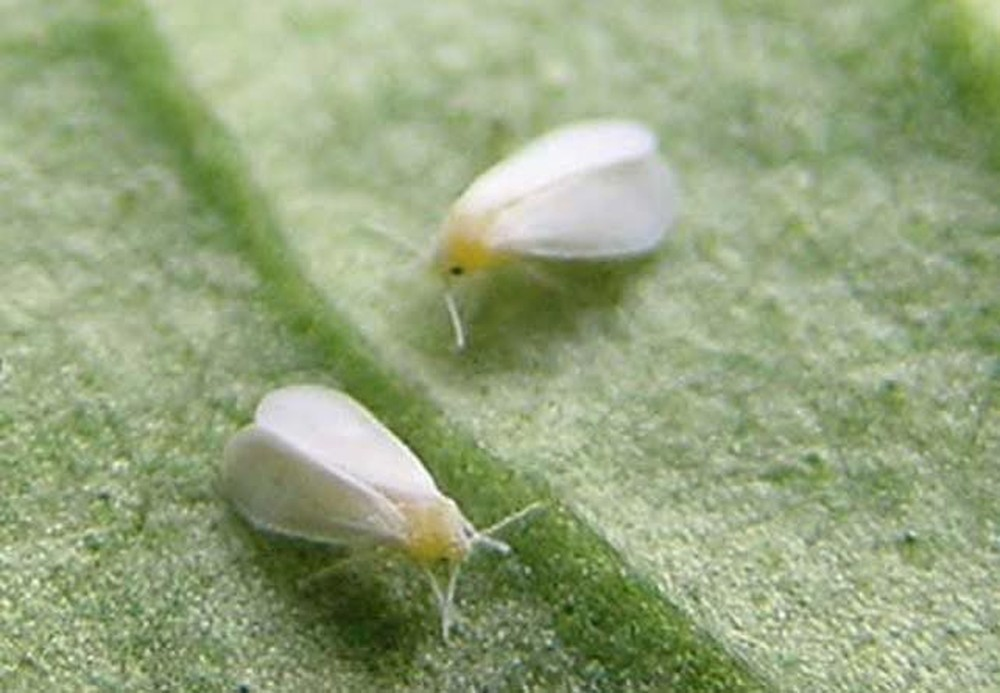Mosca Blanca: (214, 384, 558, 656), (354, 108, 706, 370)
